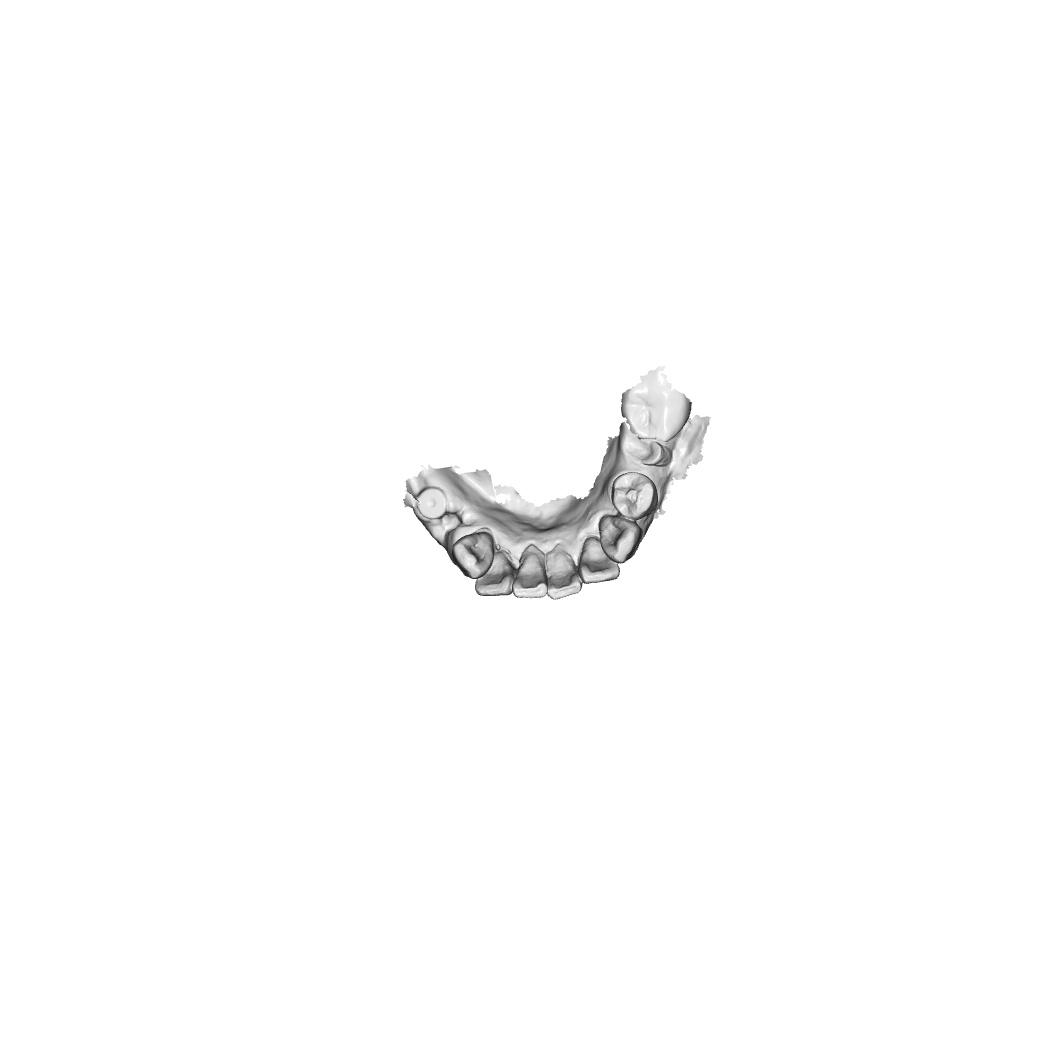canine: (450, 531, 494, 580), (598, 514, 641, 564)
implant: (416, 485, 448, 520)
incisor: (544, 543, 582, 600), (474, 550, 515, 601), (578, 536, 620, 585), (511, 544, 548, 599)
molar: (619, 385, 693, 442)
premolar: (610, 471, 659, 521)
